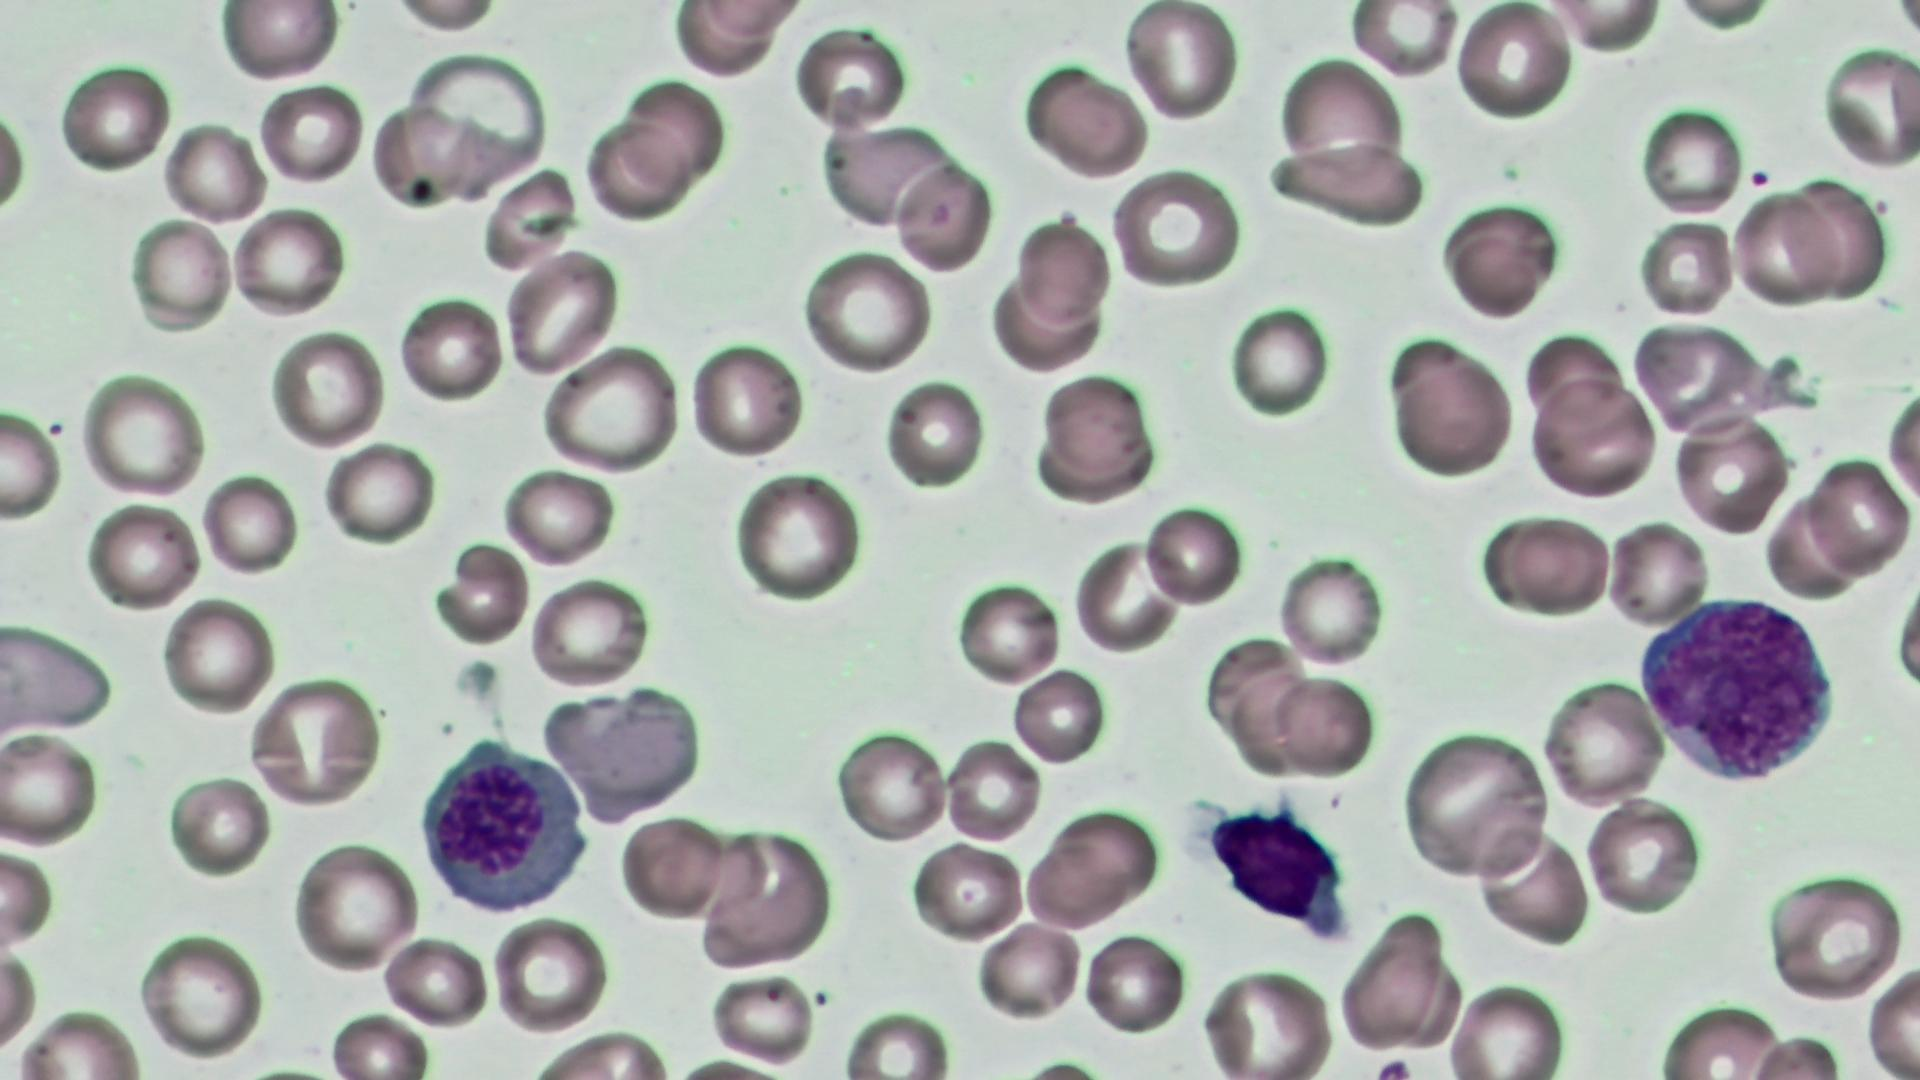Platelets: (453, 655, 502, 694), (1371, 1054, 1418, 1076), (1271, 790, 1298, 822)
RBC: (1401, 727, 1551, 882), (404, 47, 550, 199), (553, 680, 707, 819), (1762, 868, 1906, 1004), (1383, 332, 1514, 481), (244, 672, 383, 812), (1336, 905, 1457, 1060), (538, 344, 681, 473), (290, 836, 420, 976), (1276, 52, 1406, 189), (733, 469, 863, 606), (133, 927, 266, 1060), (695, 841, 829, 971), (77, 367, 207, 501), (800, 246, 934, 374), (1540, 676, 1664, 810), (1109, 166, 1244, 289), (502, 243, 622, 381), (1030, 806, 1161, 928), (1018, 58, 1146, 182), (1197, 964, 1338, 1076), (1525, 378, 1654, 500), (1581, 794, 1704, 918), (1672, 409, 1790, 538), (1122, 0, 1242, 126), (268, 326, 386, 452), (1261, 139, 1426, 229), (1439, 200, 1562, 320), (688, 337, 806, 462), (1452, 2, 1570, 125), (528, 575, 651, 693), (488, 916, 610, 1034), (1476, 822, 1590, 948), (160, 593, 276, 716), (228, 203, 347, 322), (1483, 510, 1614, 618), (83, 498, 202, 615), (833, 724, 946, 846), (55, 57, 170, 176), (1785, 172, 1890, 301), (1072, 534, 1181, 657), (1731, 186, 1839, 309), (790, 20, 907, 133), (318, 439, 438, 549), (126, 214, 236, 334), (1803, 456, 1914, 574), (0, 621, 115, 734), (985, 270, 1106, 377), (1820, 41, 1918, 173), (1274, 552, 1384, 669), (1636, 99, 1744, 218), (396, 290, 505, 407), (1444, 978, 1569, 1078), (1039, 370, 1153, 479), (1225, 302, 1330, 420), (907, 837, 1024, 942), (880, 376, 984, 494), (366, 102, 477, 212), (582, 113, 694, 222), (953, 578, 1063, 688), (618, 812, 724, 925), (891, 157, 992, 274), (1, 727, 100, 846), (624, 74, 729, 186), (500, 466, 614, 569), (974, 918, 1083, 1024), (1604, 517, 1708, 628), (255, 81, 363, 187), (1081, 929, 1187, 1037), (160, 117, 265, 225), (166, 772, 271, 879), (1143, 502, 1245, 610), (199, 470, 301, 577), (1635, 214, 1737, 320), (940, 736, 1040, 844), (1273, 670, 1373, 778), (480, 164, 579, 273), (1014, 214, 1113, 322), (380, 933, 490, 1030), (214, 2, 341, 85), (1764, 492, 1860, 600), (706, 971, 814, 1067), (433, 540, 529, 647), (1010, 664, 1108, 768), (1345, 1, 1460, 79), (838, 1005, 955, 1078), (0, 405, 64, 522), (325, 1010, 430, 1078), (1863, 957, 1920, 1078), (0, 841, 55, 952), (676, 0, 800, 48), (1881, 382, 1920, 513), (387, 0, 501, 34)
WBC: (1634, 592, 1844, 790), (415, 729, 597, 922), (1208, 804, 1340, 922)
